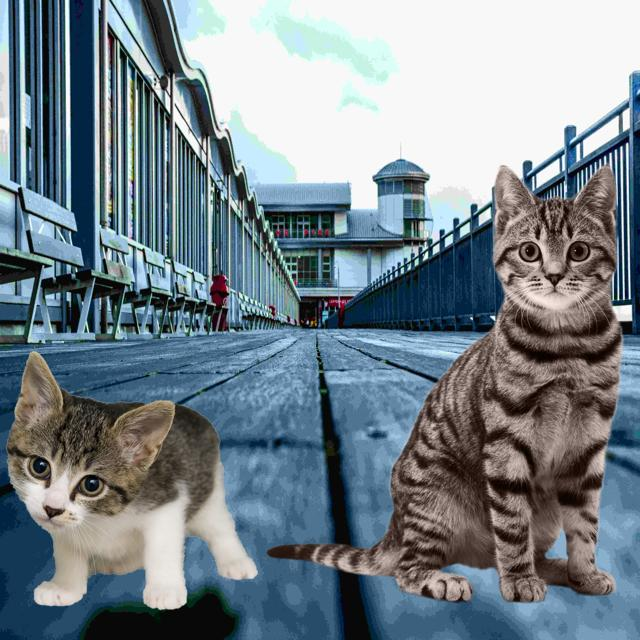cat: (267, 162, 624, 605), (8, 346, 263, 614)
